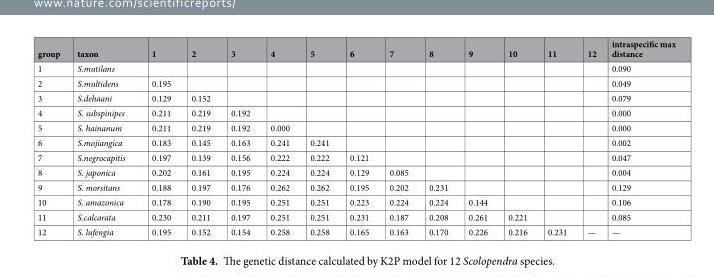table: (36, 37, 675, 237)
table column: (603, 37, 675, 237), (67, 37, 137, 237), (137, 37, 180, 237), (180, 37, 220, 237), (259, 37, 299, 237), (338, 37, 378, 237), (378, 37, 418, 237), (457, 37, 497, 237), (536, 37, 576, 237), (220, 37, 259, 237), (299, 37, 338, 237), (418, 37, 457, 237), (497, 37, 536, 237), (36, 37, 67, 237), (576, 37, 603, 237)
table column header: (36, 37, 675, 60)
table row: (36, 37, 675, 60), (36, 60, 675, 75), (36, 75, 675, 90), (36, 90, 675, 105), (36, 119, 675, 134), (36, 134, 675, 149), (36, 149, 675, 164), (36, 164, 675, 179), (36, 179, 675, 194), (36, 194, 675, 209), (36, 105, 675, 119), (36, 209, 675, 223), (36, 223, 675, 237)
